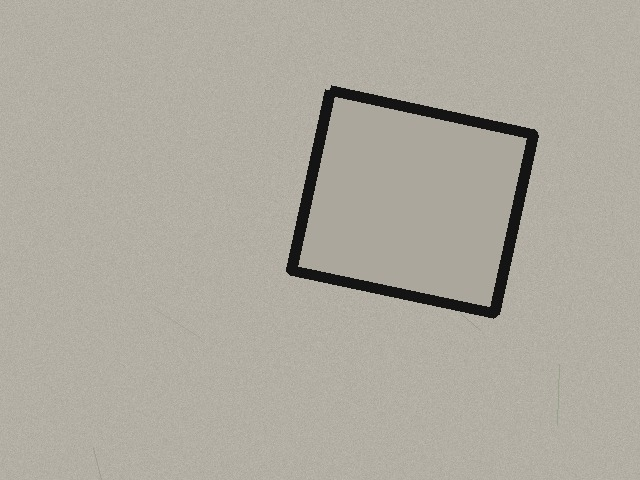parking_area: (291, 90, 533, 313)
